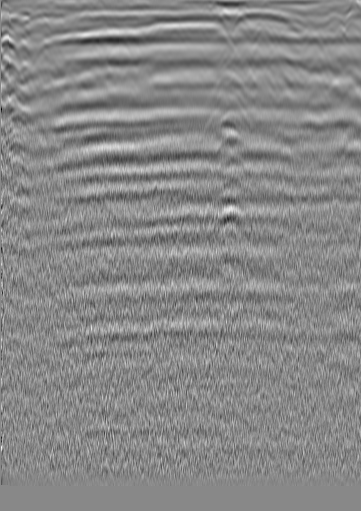가스: (206, 130, 245, 162)
상수: (305, 32, 325, 52)
오수: (32, 14, 52, 34)
우수: (169, 27, 189, 47)
